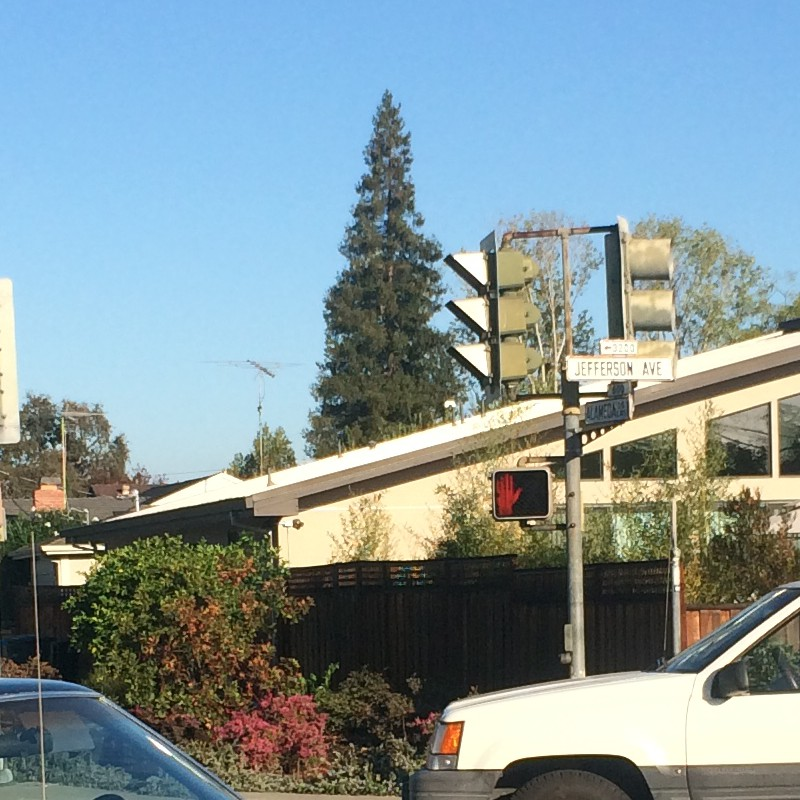stop: (483, 470, 555, 526)
